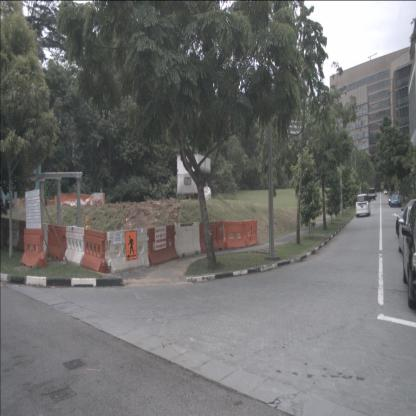movable_object-barrier: (107, 228, 150, 274), (81, 228, 110, 273), (148, 224, 178, 266), (20, 228, 48, 268), (174, 222, 202, 258), (63, 226, 86, 266), (199, 221, 226, 252), (46, 224, 66, 262), (31, 223, 50, 257), (223, 221, 246, 249), (16, 221, 34, 252), (7, 219, 21, 249), (244, 220, 259, 247), (0, 217, 11, 246)
vehicle-car: (401, 199, 416, 309), (398, 199, 416, 256), (356, 194, 370, 218), (390, 194, 401, 208), (388, 193, 397, 206), (368, 188, 376, 202)
